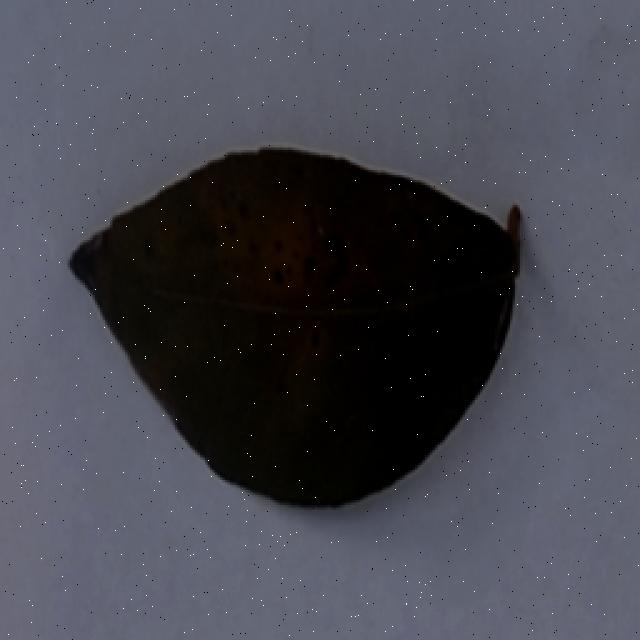blackspot: (59, 134, 547, 515)
